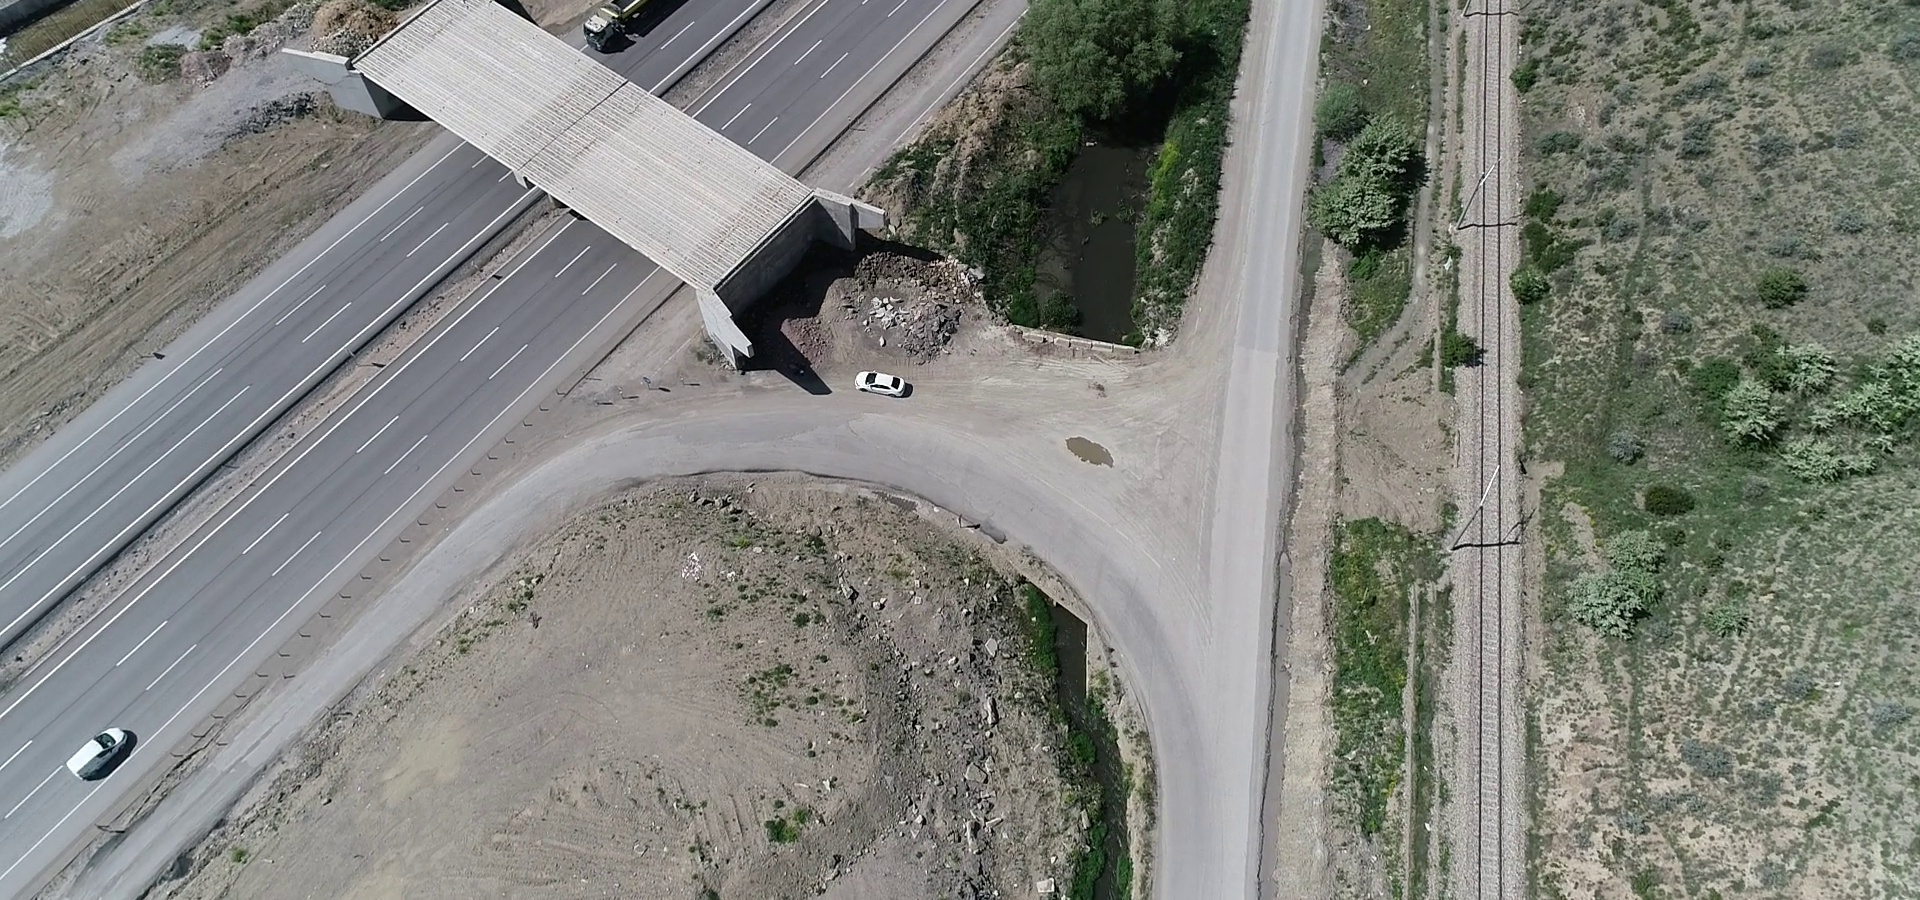arac: (58, 719, 142, 795), (580, 1, 678, 54), (851, 358, 917, 404)
